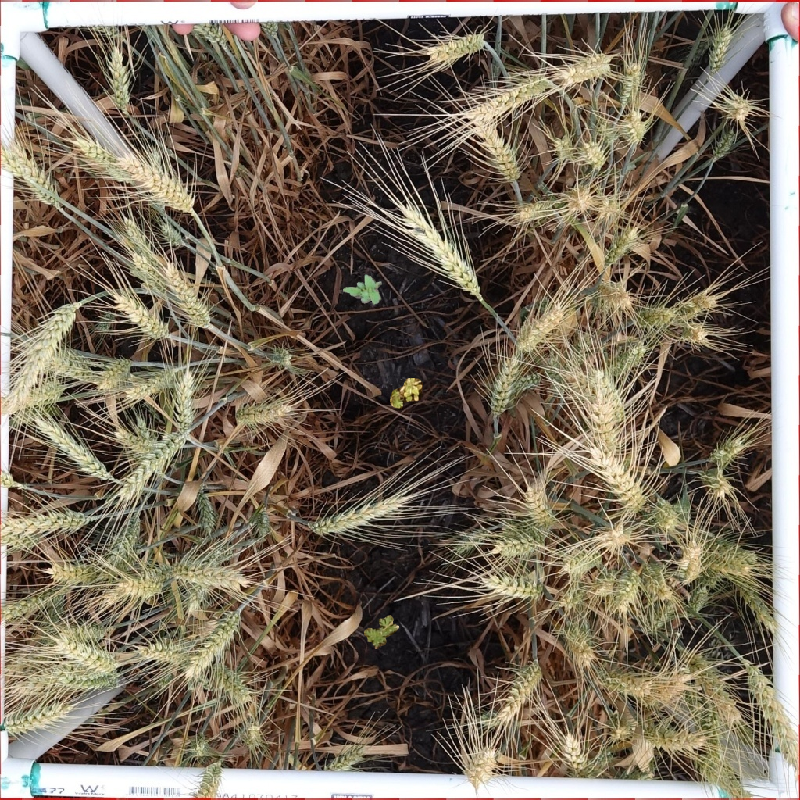spikelet: (395, 200, 484, 299), (11, 299, 79, 401), (743, 659, 799, 766), (118, 148, 199, 214), (32, 414, 111, 480), (307, 488, 409, 538), (116, 429, 184, 504), (464, 71, 552, 123), (3, 141, 68, 211), (182, 609, 243, 683), (468, 110, 523, 182), (15, 659, 125, 695), (2, 504, 94, 545), (161, 259, 214, 328), (591, 448, 647, 513), (492, 658, 543, 726), (70, 132, 135, 185), (693, 657, 742, 727), (1, 376, 69, 421), (111, 288, 170, 339), (513, 299, 567, 353), (421, 28, 489, 70), (4, 697, 74, 737), (172, 557, 250, 592), (732, 574, 780, 629), (637, 718, 706, 756), (124, 361, 188, 401), (592, 660, 655, 700), (51, 636, 123, 671), (3, 585, 67, 624), (587, 365, 629, 424), (101, 42, 136, 112), (104, 567, 170, 604), (703, 535, 759, 578), (105, 507, 144, 567), (556, 48, 613, 88), (491, 519, 547, 559), (209, 661, 256, 708), (125, 248, 170, 297), (486, 353, 520, 417), (45, 555, 115, 586), (170, 367, 199, 440), (480, 570, 546, 600), (233, 396, 293, 429), (559, 731, 600, 779), (136, 631, 192, 666), (670, 286, 721, 323), (521, 479, 558, 529), (561, 619, 598, 669), (636, 595, 681, 636), (315, 742, 369, 776), (460, 742, 501, 785), (615, 55, 647, 110), (602, 223, 641, 266), (118, 213, 154, 259), (704, 22, 737, 72), (673, 537, 708, 584), (47, 345, 94, 380), (55, 617, 111, 646), (639, 559, 675, 603), (589, 277, 634, 312), (559, 541, 602, 577), (449, 524, 494, 558), (607, 337, 647, 375), (610, 566, 641, 615), (111, 424, 157, 457), (542, 353, 568, 406), (648, 496, 685, 533), (95, 355, 133, 391), (510, 196, 555, 226), (635, 301, 679, 331), (698, 465, 735, 500), (195, 757, 227, 796), (618, 107, 649, 147), (596, 521, 633, 554), (709, 433, 746, 466), (721, 89, 755, 124), (707, 126, 739, 162), (557, 580, 590, 614), (682, 581, 712, 618), (564, 182, 596, 216), (194, 488, 218, 533), (195, 19, 229, 49), (157, 215, 186, 249), (235, 718, 265, 750), (678, 318, 711, 347), (607, 716, 640, 745), (578, 139, 607, 171), (264, 343, 296, 371), (182, 732, 214, 760), (596, 194, 624, 226), (248, 506, 273, 541), (509, 369, 543, 394), (552, 132, 577, 165), (264, 20, 286, 41)
weed: (343, 274, 382, 305), (364, 615, 399, 649), (390, 378, 423, 409)
